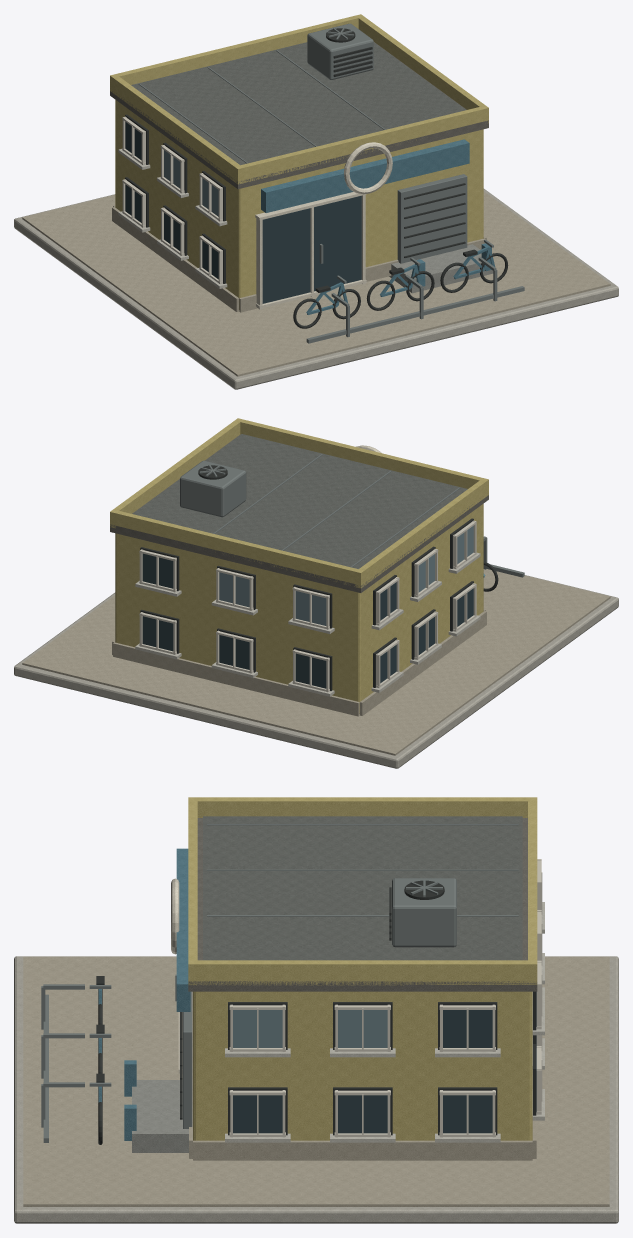
Rendered from EXP_SHOP_CYCLES.glb.
3 views of the same model, one above another, from view 1: azimuth 30°, elevation 25°; view 2: azimuth 150°, elevation 25°; view 3: azimuth 270°, elevation 25° (orthographic). The views are drawn at different scales.
Parts seen in each view (by area): view 1: EXP_SHOP_CYCLES_Visual; view 2: EXP_SHOP_CYCLES_Visual; view 3: EXP_SHOP_CYCLES_Visual.
Part boxes in pixels (<box>): EXP_SHOP_CYCLES_Visual: <box>14,14,618,389</box>; EXP_SHOP_CYCLES_Visual: <box>14,418,618,768</box>; EXP_SHOP_CYCLES_Visual: <box>14,797,618,1223</box>.
Size of what is drawn, in the model's own units: 3.92 by 1.8 by 3.92.
14 materials, 9 textured.
